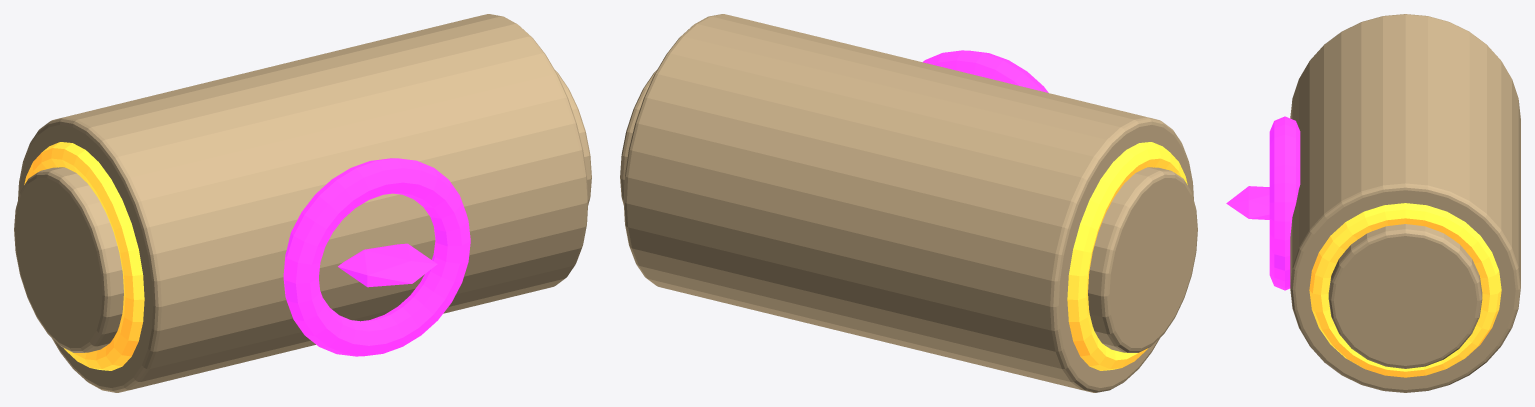
Rendered from tier_i_attack_scroll.glb.
3 renders of one model, left to right at view 1: azimuth 30°, elevation 25°; view 2: azimuth 150°, elevation 25°; view 3: azimuth 270°, elevation 25°, orthographic. The views are drawn at different scales.
Parts seen in each view (by area): view 1: Scroll, Torus.012, Roll, Torus.010, SealGem, Roll.001; view 2: Scroll, Roll, Torus.010, Torus.012, Roll.001; view 3: Scroll, Roll.001, Torus.011, Torus.012, SealGem.
Boxes of the visible parts, <box> form: Scroll: <box>18,14,588,392</box>; Torus.012: <box>283,158,470,356</box>; Roll: <box>14,167,123,352</box>; Torus.010: <box>24,142,144,370</box>; SealGem: <box>338,243,437,287</box>; Roll.001: <box>555,70,591,205</box>; Scroll: <box>623,14,1193,392</box>; Roll: <box>1088,167,1197,352</box>; Torus.010: <box>1067,142,1187,370</box>; Torus.012: <box>922,50,1048,92</box>; Roll.001: <box>620,70,656,205</box>; Scroll: <box>1290,14,1520,392</box>; Roll.001: <box>1328,224,1482,368</box>; Torus.011: <box>1309,203,1501,377</box>; Torus.012: <box>1269,116,1300,290</box>; SealGem: <box>1226,186,1269,219</box>.
Bounding box in the file's own units: 1.8 × 0.9 × 1.15.
